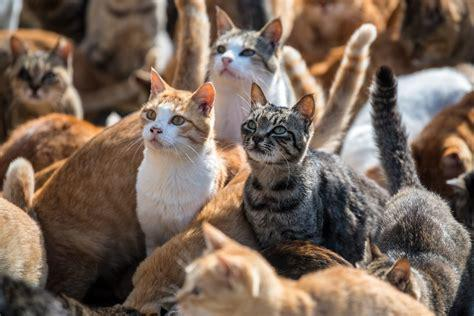cat: (173, 221, 435, 316), (241, 81, 391, 246), (136, 66, 247, 257), (209, 6, 297, 144), (7, 35, 83, 131)
